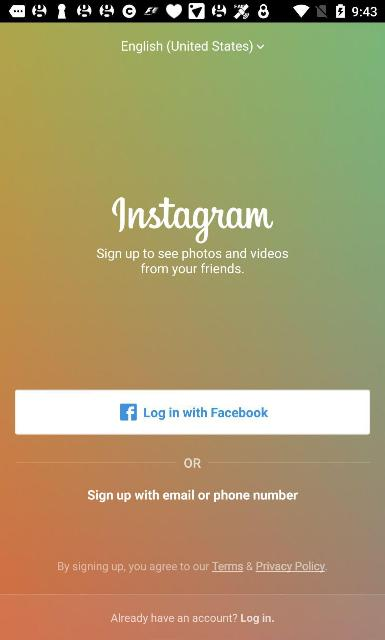Icon: (257, 45, 265, 49)
Image: (111, 196, 273, 244), (121, 404, 137, 420)
Text: (96, 248, 288, 276), (57, 561, 327, 573), (87, 490, 298, 502), (122, 40, 253, 54), (111, 614, 275, 624), (144, 407, 268, 419), (184, 458, 200, 468)
TextButton: (0, 594, 384, 640)
TextImageButton: (15, 390, 370, 434)
UpperTaskBar: (0, 0, 384, 22)
